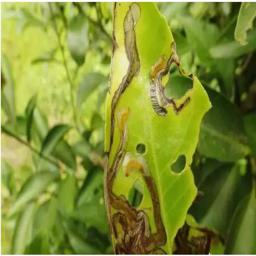liriomyza: (101, 1, 220, 256)
